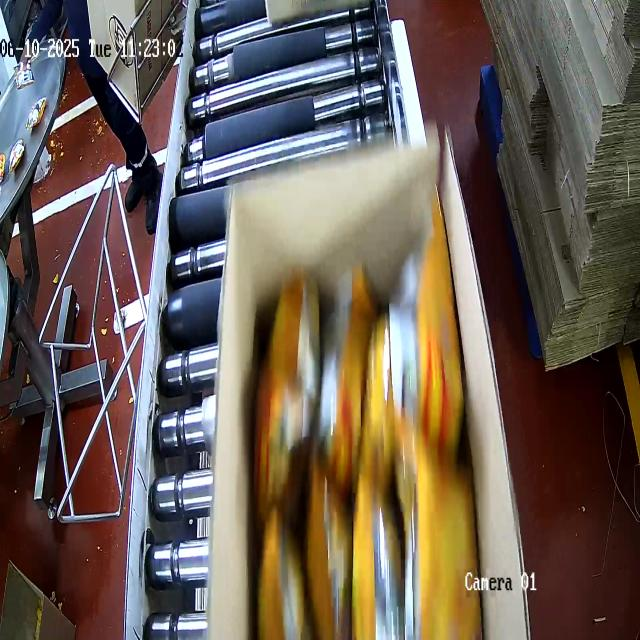FRENCH_CHEESE: (240, 225, 476, 640)
